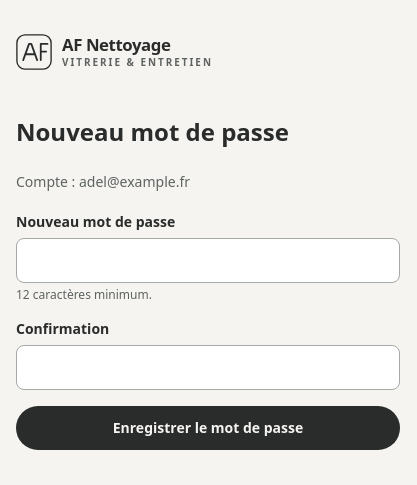
it: Réinitialisation › refuse explicitement la réutilisation de l'ancien mot de passe
Type "un-mot-de-passe-solide" into the password field labelled "Nouveau mot de passe". click: (208,261)
box: top-left (16, 238), bottom-right (400, 283)
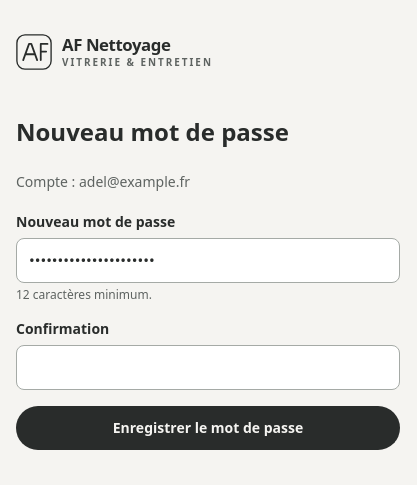
Type "un-mot-de-passe-solide" into the password field labelled "Confirmation". click: (208,367)
box: top-left (16, 345), bottom-right (400, 390)
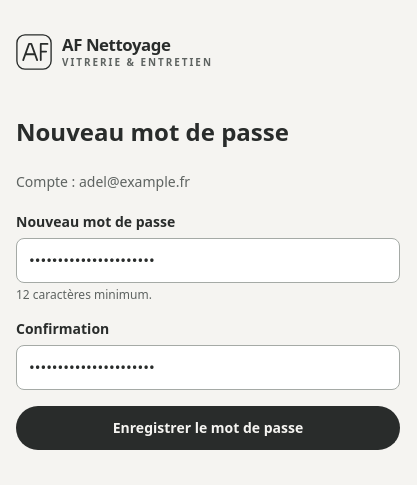
Click the button "Enregistrer le mot de passe". click: (208,428)
box: top-left (16, 406), bottom-right (400, 450)
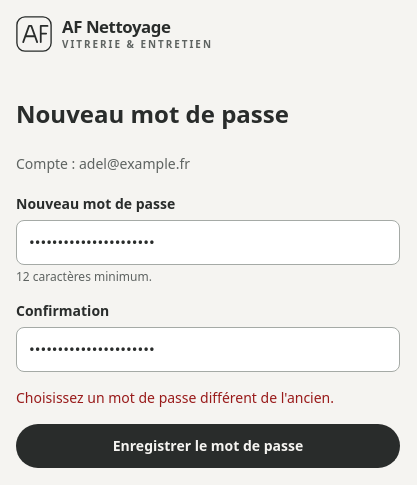
Expected: the message shows "différent de l'ancien", top-left (16, 388), bottom-right (334, 407)
